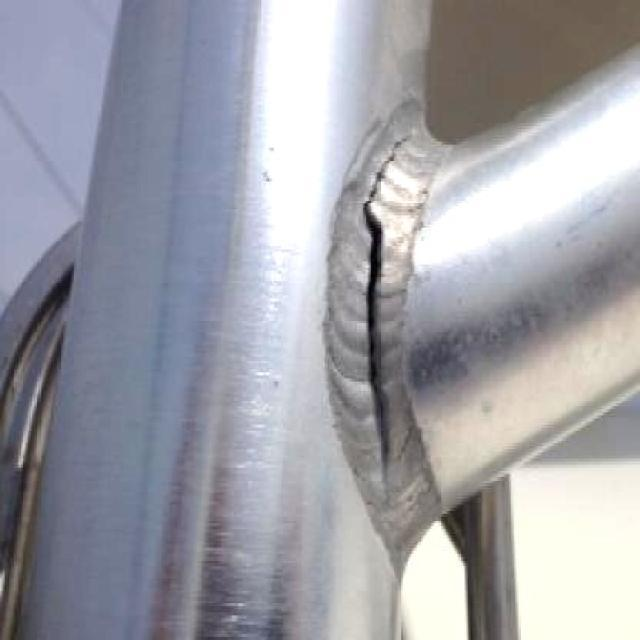crack: (366, 331, 386, 469), (367, 215, 384, 323), (383, 136, 406, 172), (366, 178, 382, 211)
